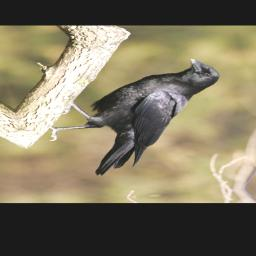Crow: (23, 54, 249, 178)
